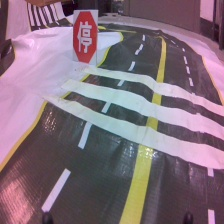stop: (72, 9, 100, 66)
